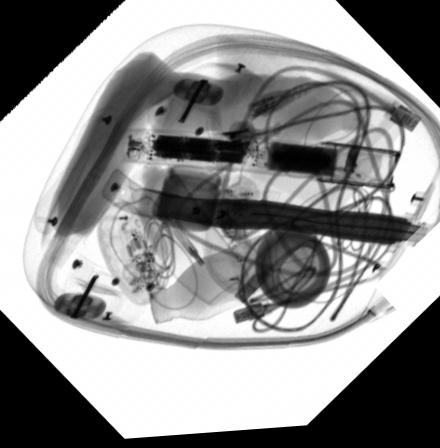Baton: (119, 127, 402, 195)
